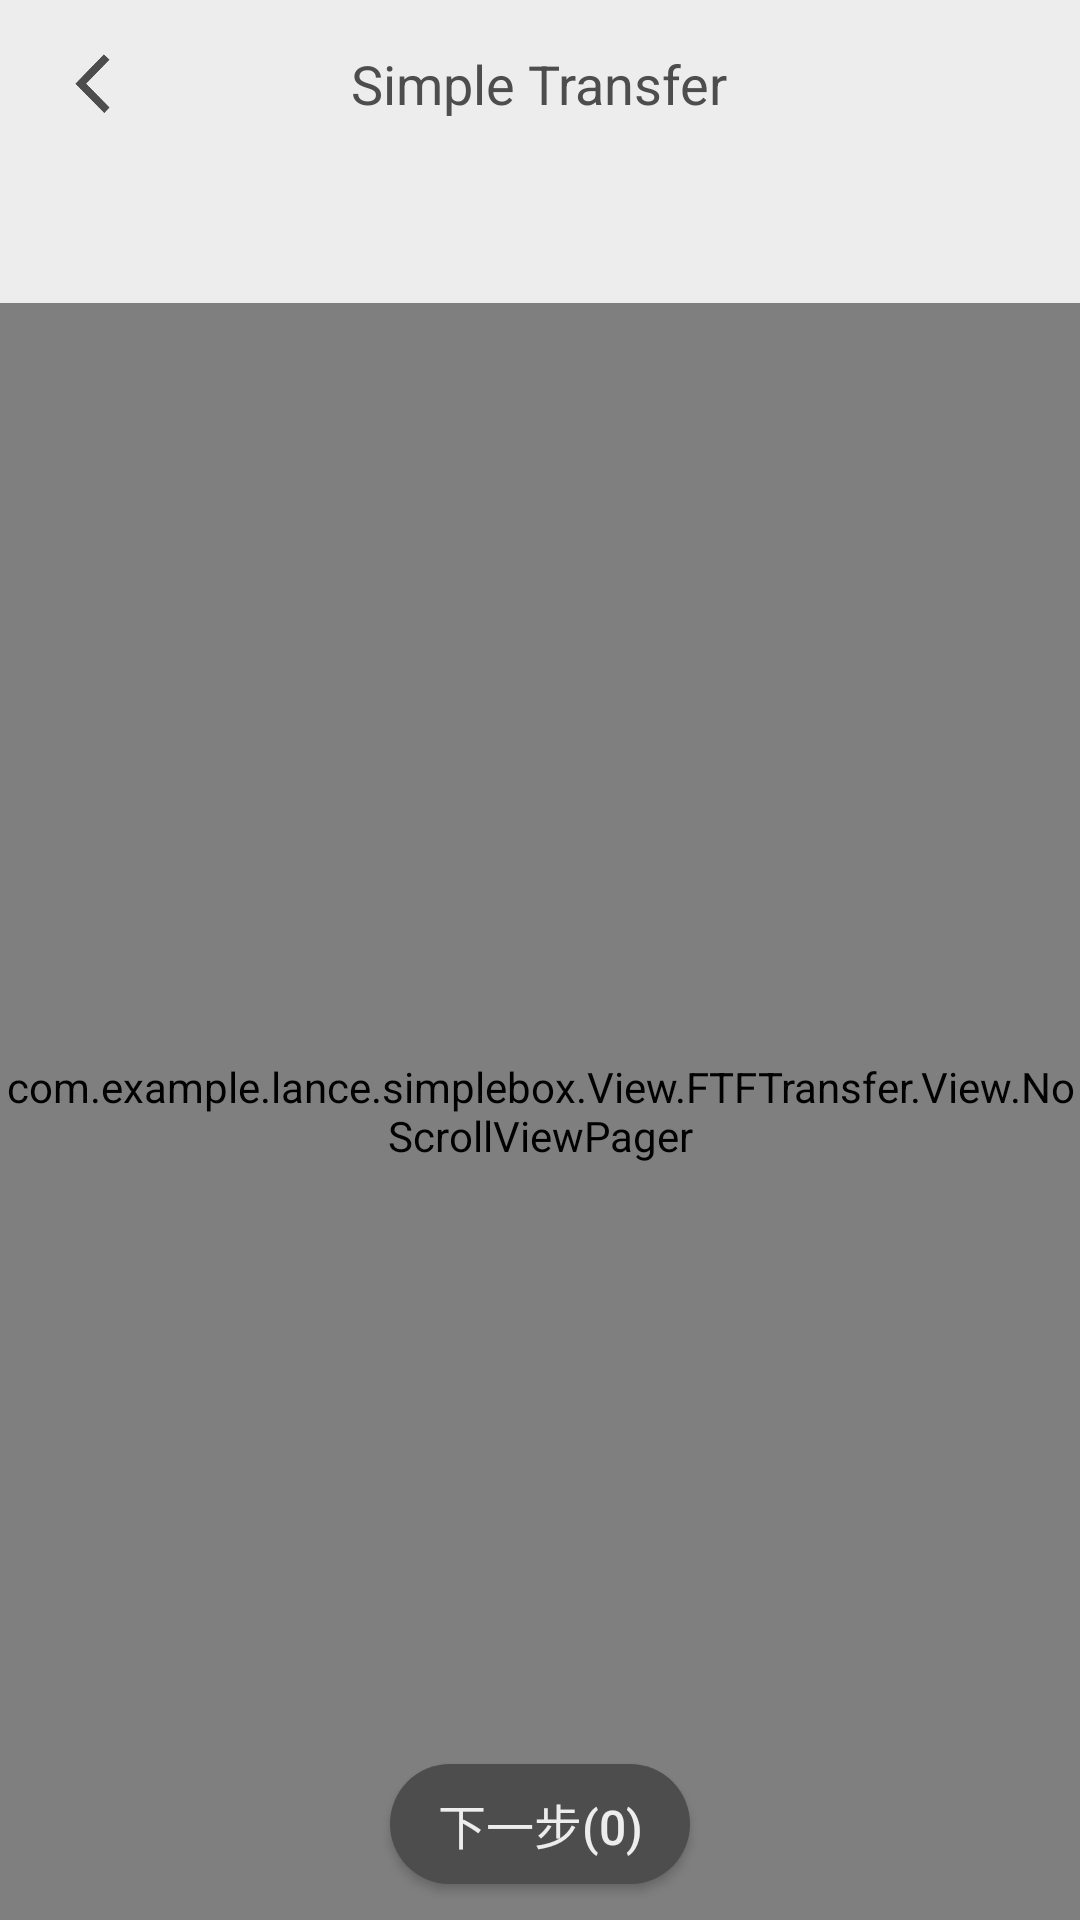

Where icons sit on this 1080w x 1920h app screen, as (x1, y1, x2, y2):
back: (75, 54, 110, 113)
